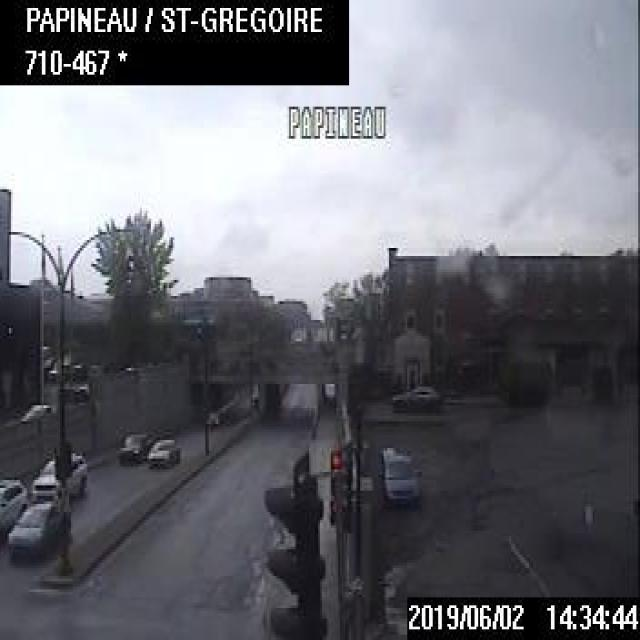vehicle: (7, 499, 71, 560), (29, 451, 88, 499), (377, 444, 418, 505), (0, 473, 27, 537), (388, 380, 439, 409), (144, 435, 178, 464), (120, 433, 146, 462), (20, 402, 48, 422), (203, 408, 221, 427)
